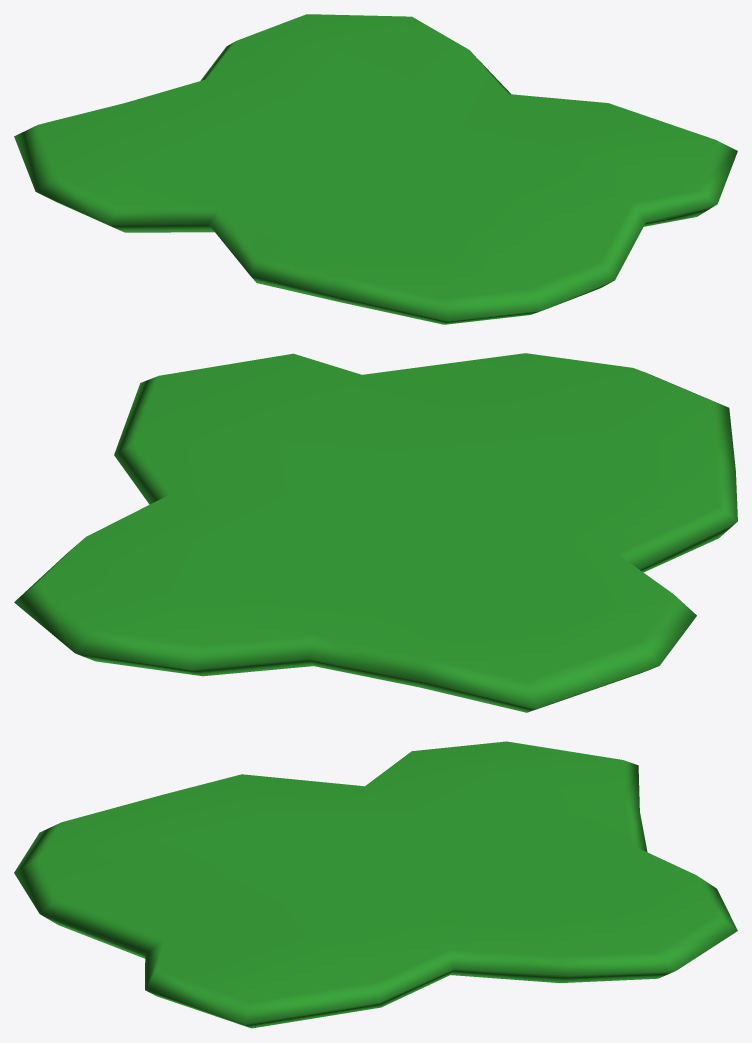
The model's file is GoopPuddle.fbx.
3 renders of one model, top to bottom at view 1: azimuth 30°, elevation 25°; view 2: azimuth 150°, elevation 25°; view 3: azimuth 270°, elevation 25°, orthographic. The views are drawn at different scales.
Parts seen in each view (by area): view 1: Goop.006; view 2: Goop.006; view 3: Goop.006.
Part boxes in pixels (x1,y1,x2,y2): Goop.006: (14,14,737,324); Goop.006: (14,353,737,712); Goop.006: (14,741,737,1028).
Bounding box in the file's own units: 12867 × 574 × 14112.
Materials: 1 (1 with a texture image).
